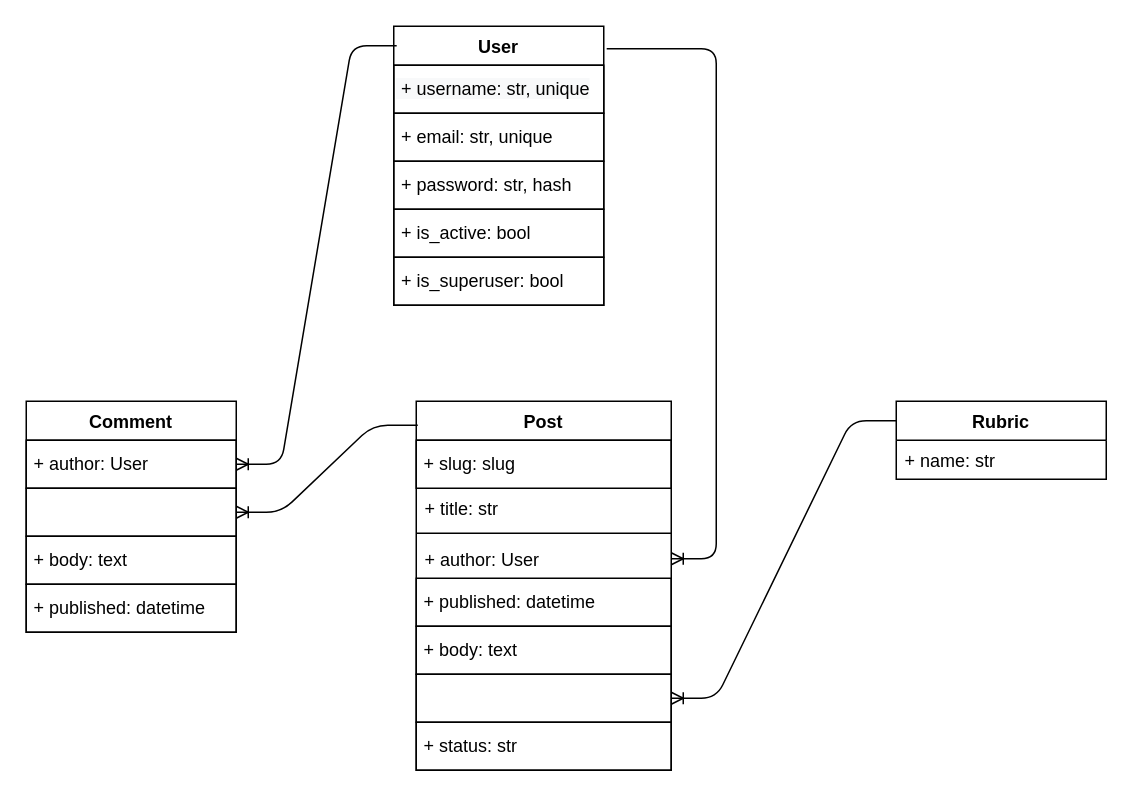
Some shapes in this 1133 by 797 pixel diagram are drawn without their labels. Each missing label, with the centre of its shape:
+ post: Post: the point at 130,511
+ rubric: Rubric: the point at 543,697
